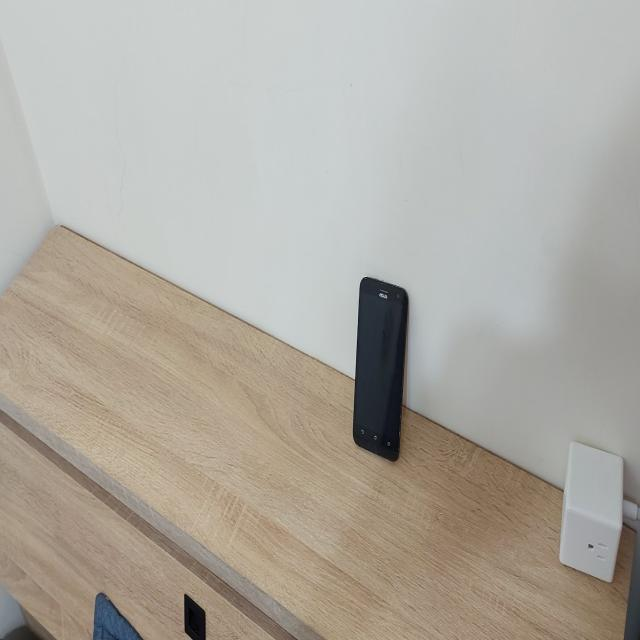Smartphone: (351, 277, 410, 461)
